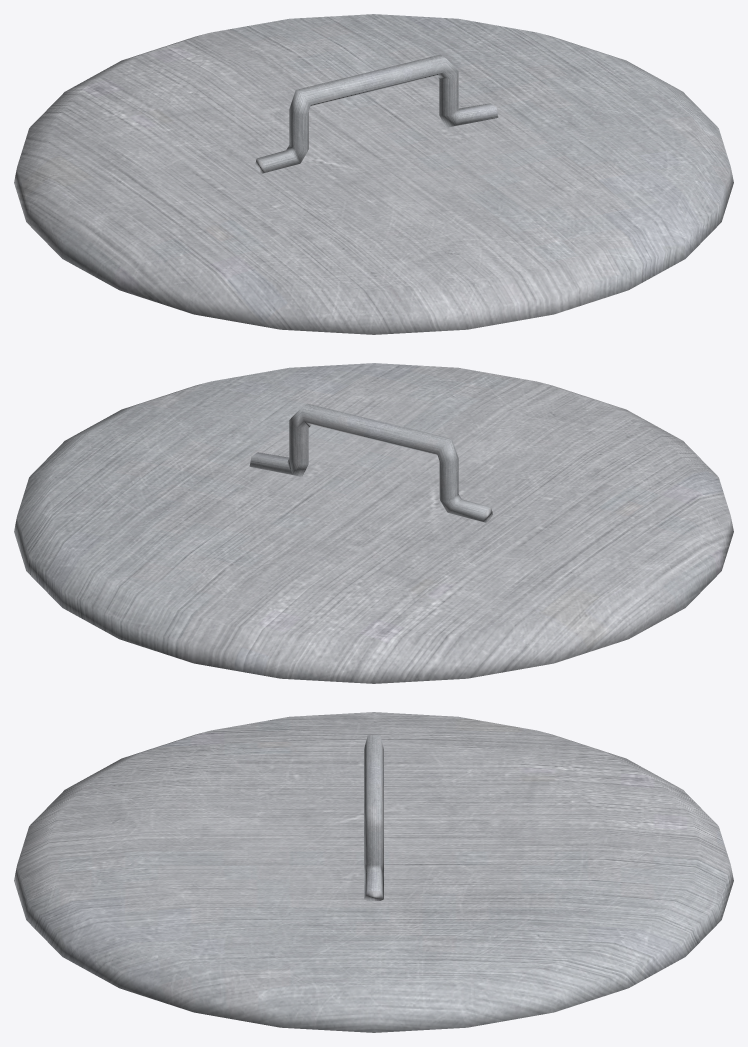
File: SM_KitchenwareH.FBX
3 renders of one model, top to bottom at view 1: azimuth 30°, elevation 25°; view 2: azimuth 150°, elevation 25°; view 3: azimuth 270°, elevation 25°, orthographic.
Visible parts, largest first — view 1: SM_KitchenwareH; view 2: SM_KitchenwareH; view 3: SM_KitchenwareH.
Part boxes in pixels (bbox=[...]): SM_KitchenwareH: bbox=[14, 14, 733, 334]; SM_KitchenwareH: bbox=[14, 363, 733, 683]; SM_KitchenwareH: bbox=[14, 712, 733, 1032].
Bounding box in the file's own units: 30.64 × 5.18 × 30.64.
